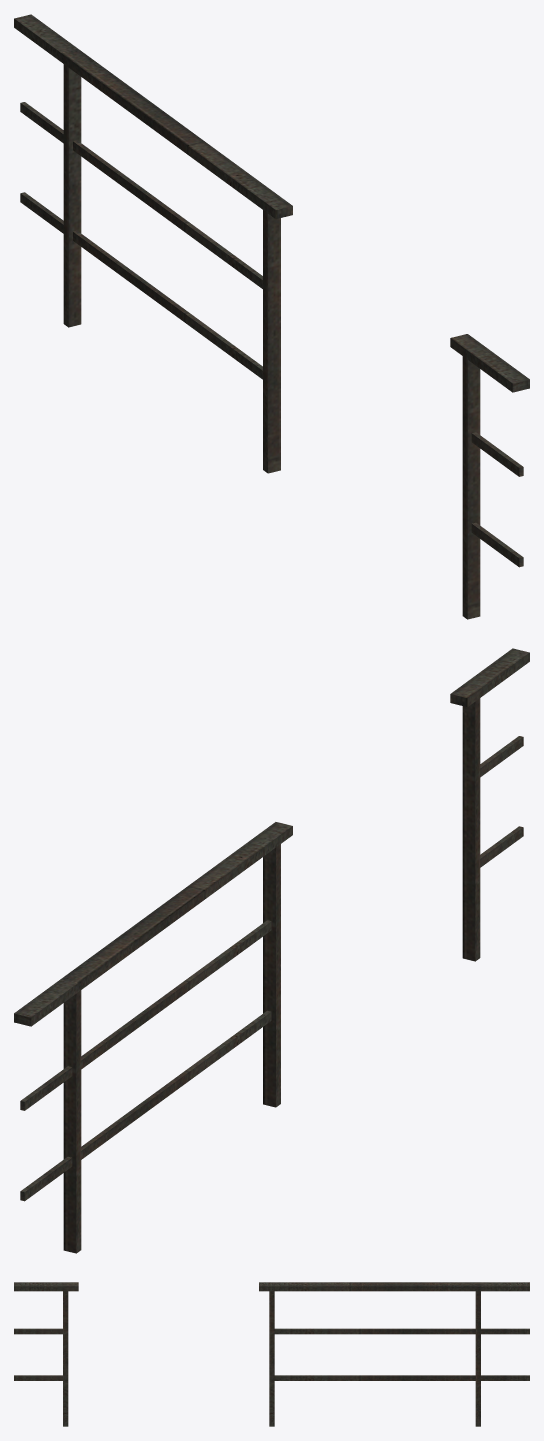
The model's file is platform_b_handrail_1_1.obj.
3 renders of one model, top to bottom at view 1: azimuth 30°, elevation 25°; view 2: azimuth 150°, elevation 25°; view 3: azimuth 270°, elevation 25°, orthographic. The views are drawn at different scales.
Parts seen in each view (by area): view 1: platform_b_handrail_1_1; view 2: platform_b_handrail_1_1; view 3: platform_b_handrail_1_1.
Boxes of the visible parts, box(x1,y1,x2,y2) form: platform_b_handrail_1_1: box(14, 14, 529, 619); platform_b_handrail_1_1: box(14, 648, 529, 1253); platform_b_handrail_1_1: box(14, 1282, 529, 1426).
Size of the model in its own units: 0.08 by 1.2 by 4.
